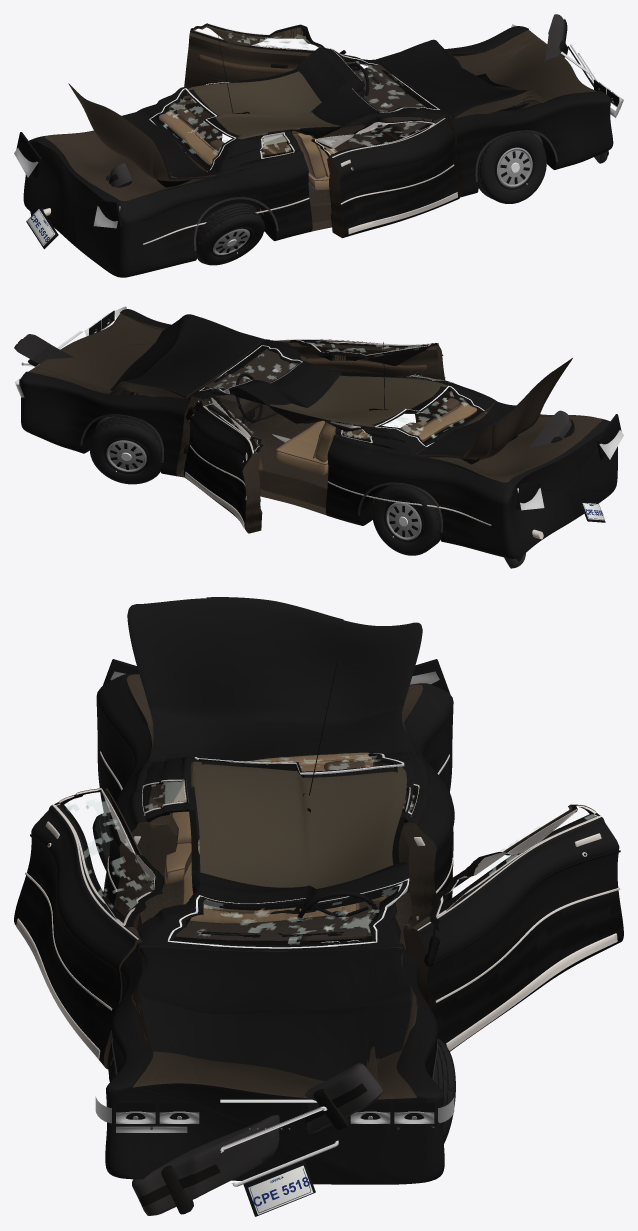
Rendered from coupe84_roll_d2.glb.
3 views of the same model, one above another, from view 1: azimuth 30°, elevation 25°; view 2: azimuth 150°, elevation 25°; view 3: azimuth 270°, elevation 25° (orthographic). The views are drawn at different scales.
Visible parts, largest first — view 1: Body, Door_FR, Hood, Interior, Door_FL, Trunk, Wheel_FR_mesh, Wheel_RR_mesh, Ends, Trim_FR, Glass, Trim (+5 smaller); view 2: Body, Hood, Door_FL, Interior, Trunk, Wheel_FL_mesh, Wheel_RL_mesh, Door_FR, Ends, Trim, Glass, Trim_FR (+4 smaller); view 3: Body, Trunk, Hood, Door_FL, Door_FR, Bumper_F, Ends, Interior, Trim_FL, Glass, Trim_FR, Trim (+2 smaller).
Part boxes in pixels (x1,y1,x2,y2): Body: [23, 26, 613, 277]; Door_FR: [311, 117, 460, 238]; Hood: [376, 39, 546, 118]; Interior: [159, 64, 434, 190]; Door_FL: [184, 23, 356, 86]; Trunk: [68, 83, 216, 181]; Wheel_FR_mesh: [477, 132, 546, 203]; Wheel_RR_mesh: [196, 203, 264, 265]; Ends: [14, 24, 623, 249]; Trim_FR: [315, 118, 457, 234]; Glass: [149, 48, 439, 171]; Trim: [143, 32, 557, 250]; Body: [20, 309, 617, 558]; Hood: [109, 314, 264, 398]; Door_FL: [183, 397, 263, 533]; Interior: [202, 349, 477, 474]; Trunk: [416, 358, 572, 459]; Wheel_FL_mesh: [90, 416, 161, 484]; Wheel_RL_mesh: [372, 485, 440, 555]; Door_FR: [277, 339, 445, 413]; Ends: [14, 306, 623, 522]; Trim: [80, 342, 491, 532]; Glass: [199, 345, 484, 446]; Trim_FR: [275, 339, 445, 378]; Body: [96, 673, 453, 1184]; Trunk: [127, 597, 422, 761]; Hood: [131, 946, 417, 1081]; Door_FL: [403, 804, 623, 1051]; Door_FR: [14, 787, 164, 1069]; Bumper_F: [132, 1063, 382, 1215]; Ends: [95, 659, 454, 1216]; Interior: [164, 752, 386, 942]; Trim_FL: [416, 805, 620, 1050]; Glass: [145, 753, 415, 948]; Trim_FR: [16, 788, 155, 1058]; Trim: [100, 661, 454, 1080].
Bounding box in the file's own units: 5.53 × 1.7 × 3.07.
30 materials, 5 textured.
